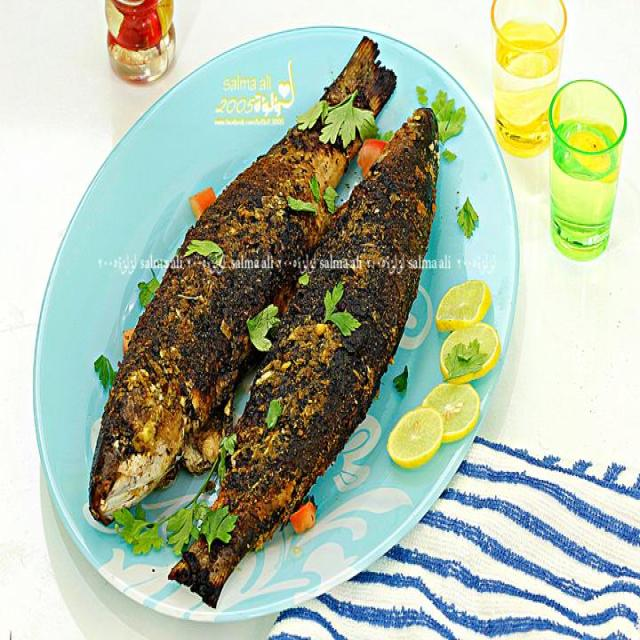Peixe: (86, 32, 398, 528)
